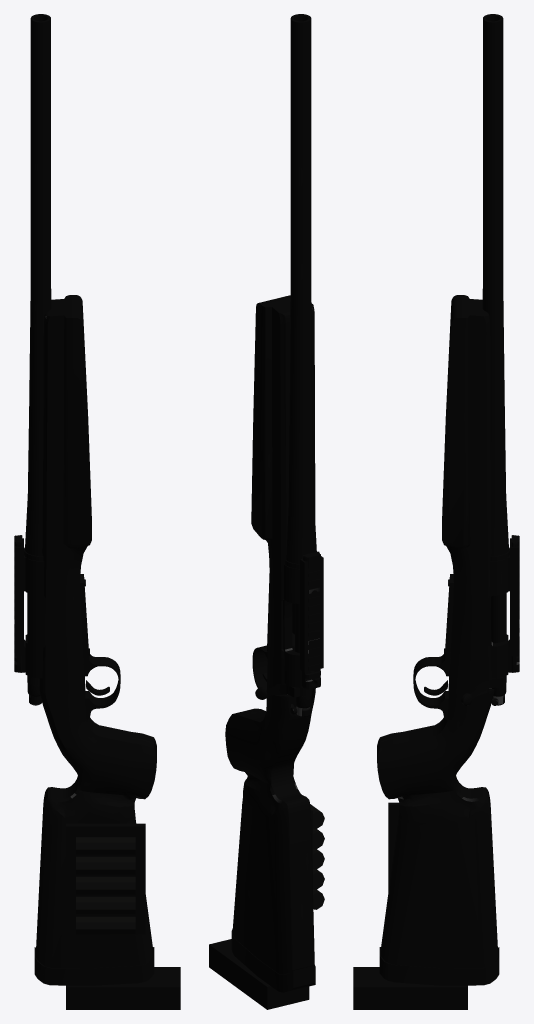
Rendered from Rem700__Mount_ScopeBase__RecoilPad_Rubber__ShellHolder_Butt.fbx.
The picture shows the model from 3 angles, left to right: view 1: azimuth 90°, elevation 25°; view 2: azimuth 210°, elevation 25°; view 3: azimuth 270°, elevation 25°; orthographic projection.
Parts seen in each view (by area): view 1: asset_Rem700.001; view 2: asset_Rem700.001; view 3: asset_Rem700.001.
Part boxes in pixels (bbox=[...]): asset_Rem700.001: bbox=[14, 14, 180, 1009]; asset_Rem700.001: bbox=[209, 14, 324, 1009]; asset_Rem700.001: bbox=[353, 14, 519, 1009].
Size of the model in its own units: 0.0494 by 0.651 by 0.1.
